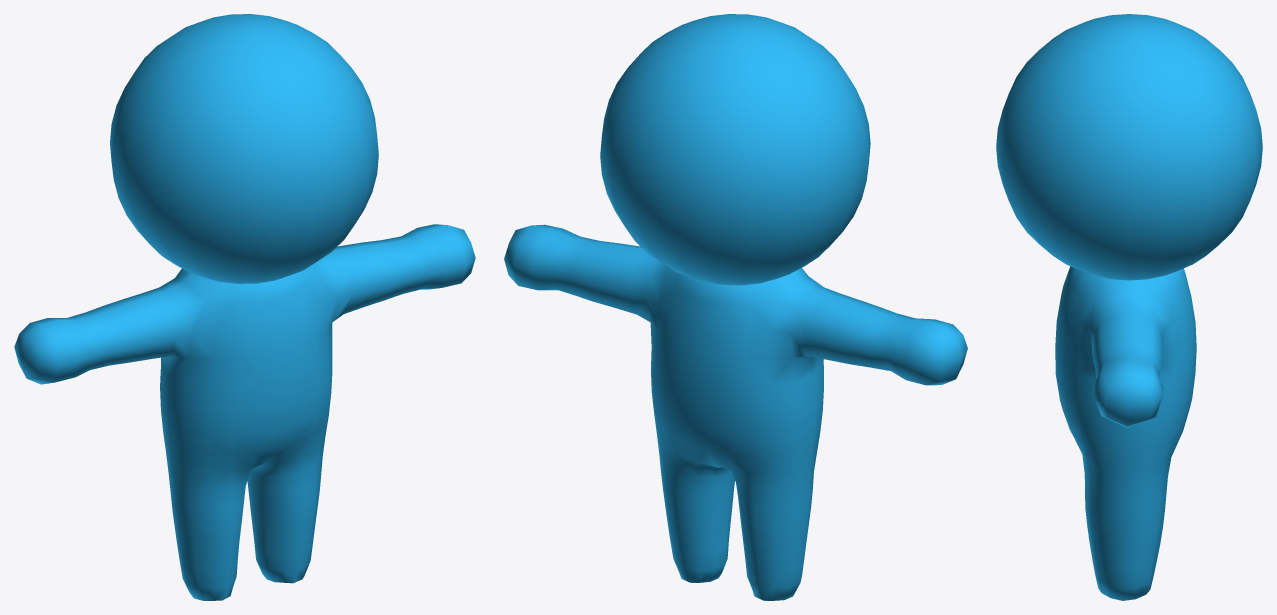
File: Player.fbx
3 views of the same model, side by side, from view 1: azimuth 30°, elevation 25°; view 2: azimuth 150°, elevation 25°; view 3: azimuth 270°, elevation 25° (orthographic).
Parts seen in each view (by area): view 1: player1; view 2: player1; view 3: player1.
Part boxes in pixels (box(x1,y1,x2,y2)): player1: box(14, 14, 475, 600); player1: box(504, 14, 967, 600); player1: box(996, 14, 1262, 600).
Bounding box in the file's own units: 225 × 268 × 117.
